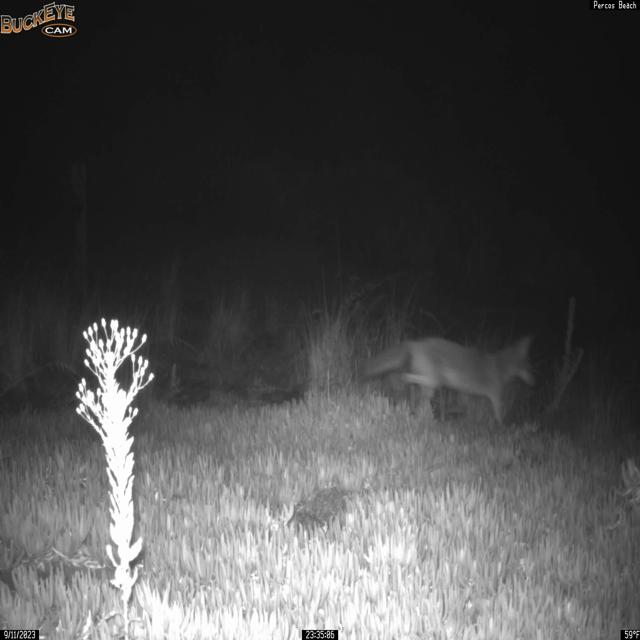coyote: (362, 332, 538, 429)
